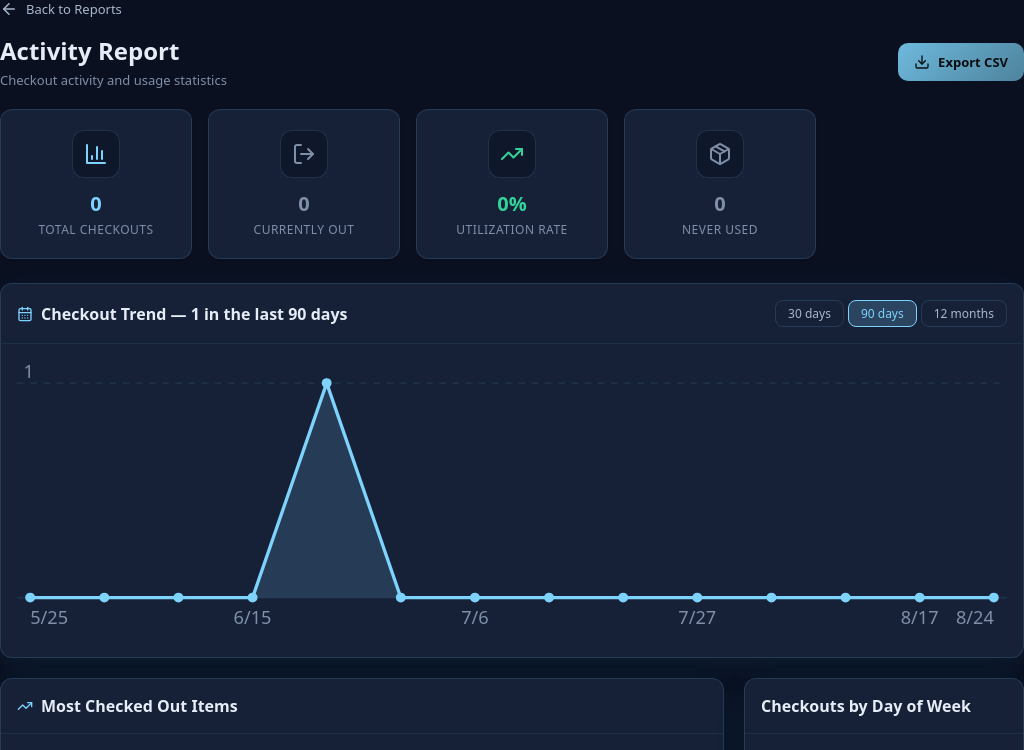
Scenario: ActivityReportPanel › range buttons re-bucket the window
Check: the text "Checkout Trend — 1 in the last 90 days" is shown, box [41, 302, 348, 324]
Click the button "30 days" at (810, 314), box [775, 300, 844, 327]
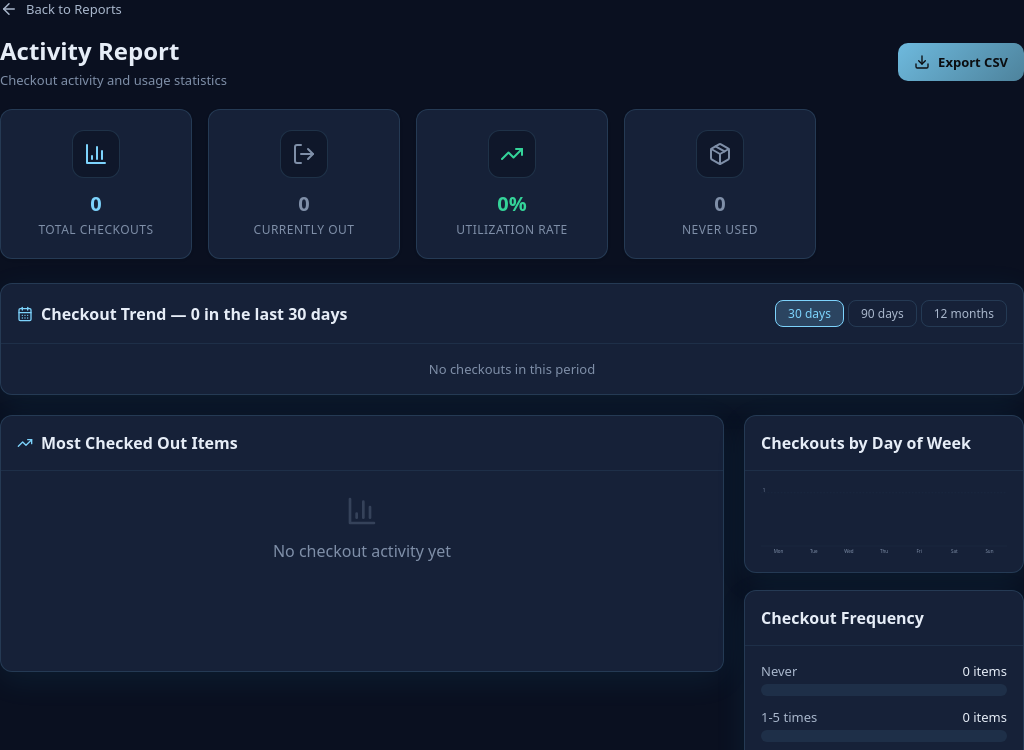
Check: the text "Checkout Trend — 0 in the last 30 days" is shown, box [41, 302, 348, 324]
